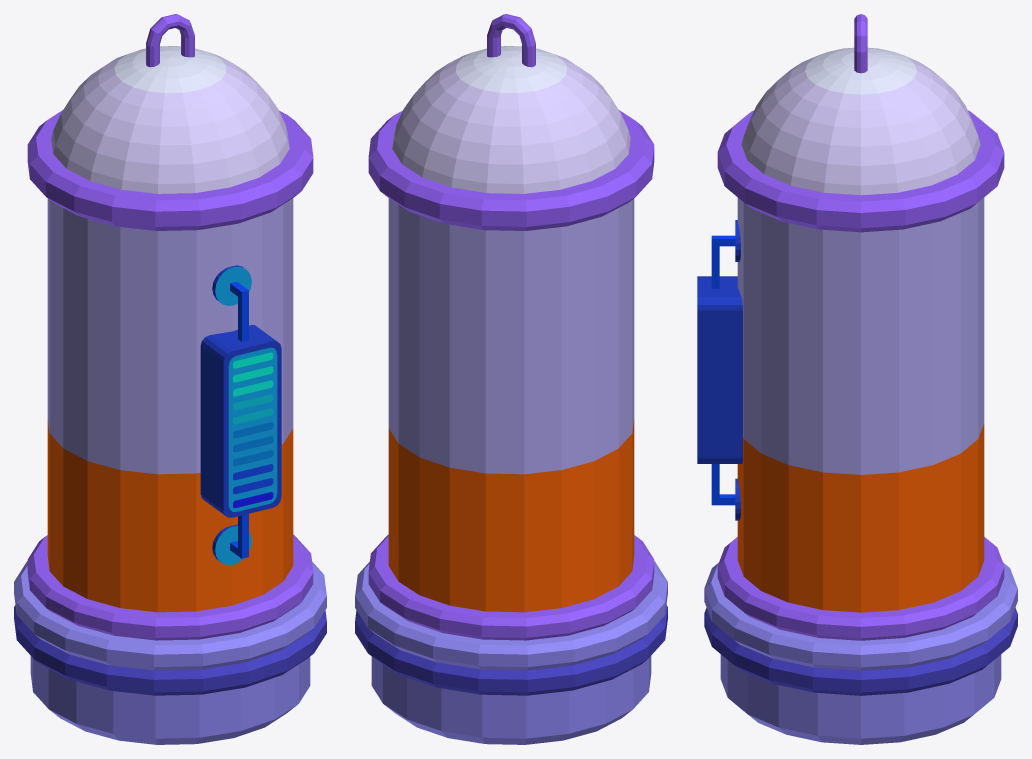
Rendered from Building_047.fbx.
3 renders of one model, left to right at view 1: azimuth 30°, elevation 25°; view 2: azimuth 150°, elevation 25°; view 3: azimuth 270°, elevation 25°, orthographic.
Parts seen in each view (by area): view 1: Building_047; view 2: Building_047; view 3: Building_047.
Part boxes in pixels (x1,y1,x2,y2): Building_047: (14, 14, 326, 744); Building_047: (355, 14, 667, 744); Building_047: (697, 14, 1017, 744).
Size of the model in its own units: 7.79 by 18.46 by 7.99.
